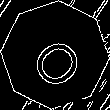O_NE: (22, 22, 88, 88)
